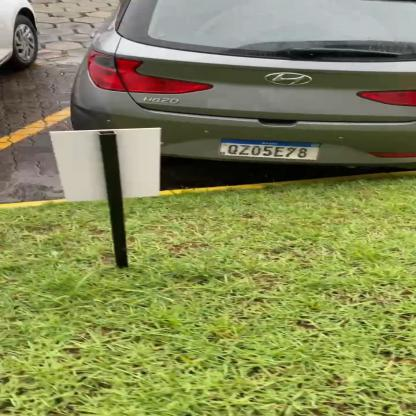Plate: (218, 135, 321, 165)
